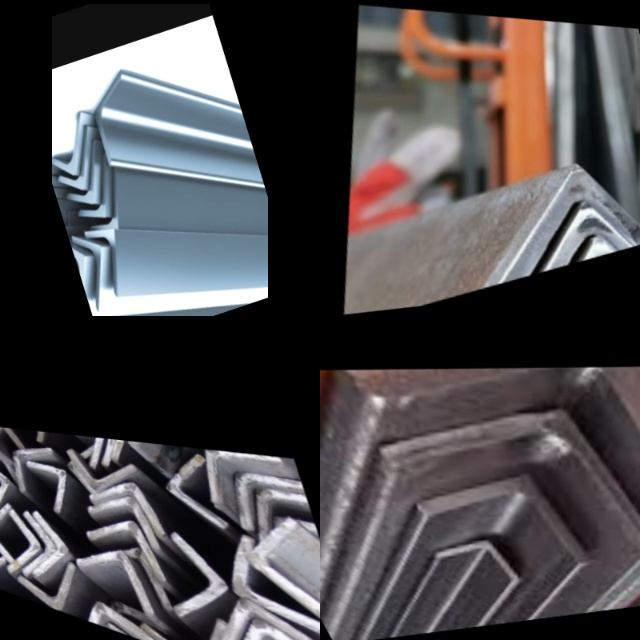Angle: (378, 367, 640, 533), (320, 367, 640, 494), (381, 417, 640, 569), (421, 152, 640, 300), (438, 198, 640, 297), (422, 482, 584, 576), (229, 538, 320, 626), (245, 516, 320, 615), (167, 538, 234, 624), (231, 473, 320, 537), (204, 449, 291, 510), (87, 75, 142, 161), (214, 598, 320, 640), (248, 489, 320, 548), (89, 515, 160, 573), (77, 545, 144, 600), (169, 455, 220, 521), (89, 492, 154, 543), (95, 481, 160, 531), (441, 543, 516, 585), (74, 233, 115, 309), (85, 226, 129, 296), (58, 144, 108, 204), (68, 160, 118, 218), (69, 451, 138, 492), (150, 604, 228, 640), (24, 553, 73, 610), (52, 131, 99, 186), (82, 172, 127, 229), (224, 615, 320, 640), (52, 116, 92, 173), (34, 515, 65, 583), (24, 514, 53, 577), (9, 513, 36, 578), (17, 446, 49, 493), (32, 466, 67, 507)
